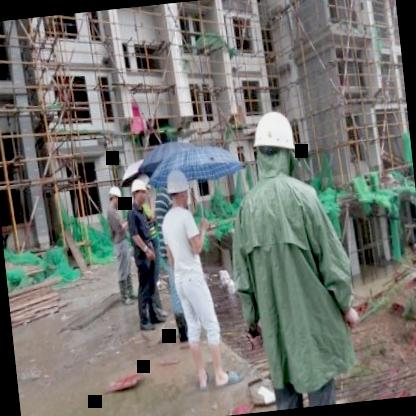helmet: (246, 106, 304, 190), (161, 161, 194, 210), (128, 174, 148, 207), (107, 181, 123, 211)
